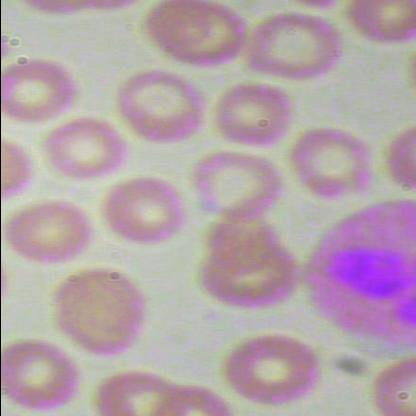RBC: (52, 264, 154, 360), (214, 332, 322, 408), (240, 8, 348, 84), (142, 0, 252, 71), (110, 70, 209, 142), (98, 174, 196, 246), (1, 192, 97, 264), (1, 334, 89, 412), (288, 124, 378, 200), (194, 148, 284, 224), (38, 116, 128, 184), (207, 81, 298, 148), (1, 57, 78, 124)
WBC: (298, 197, 415, 356)
